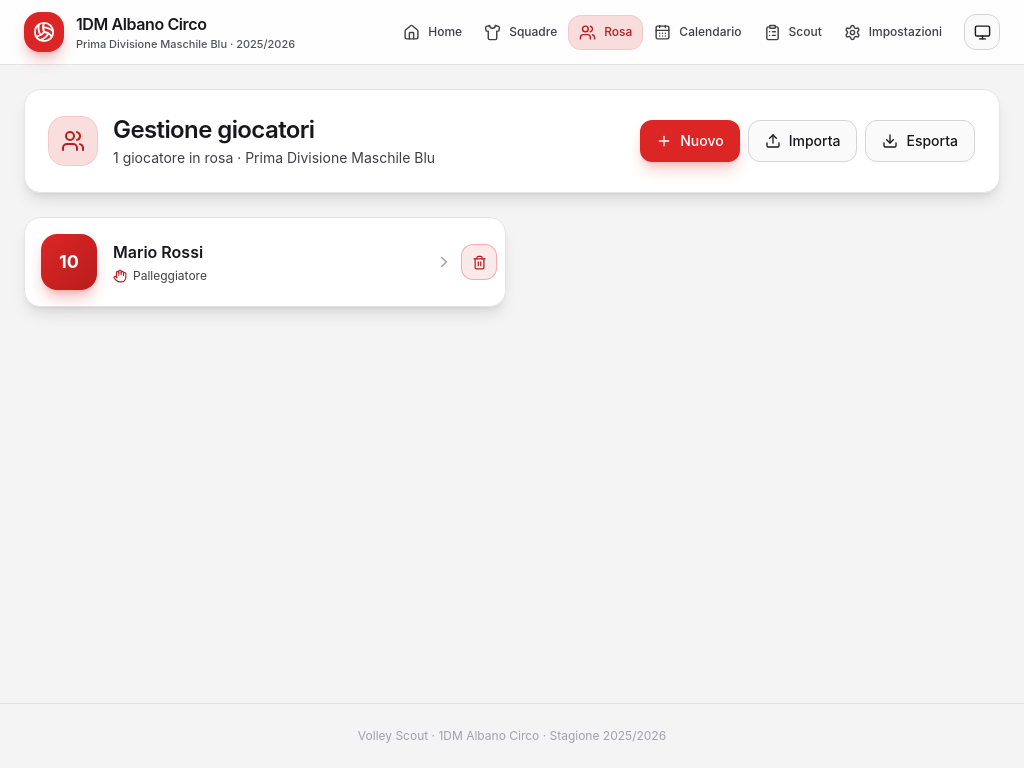
it: giocatori › mostra le statistiche aggregate di tutti gli scout nel profilo
This screenshot has width=1024, height=768.
Step 1. Click the link with aria-label "Apri il profilo di Mario Rossi" → (69, 262), box [41,226,453,298]
(page scrolled)
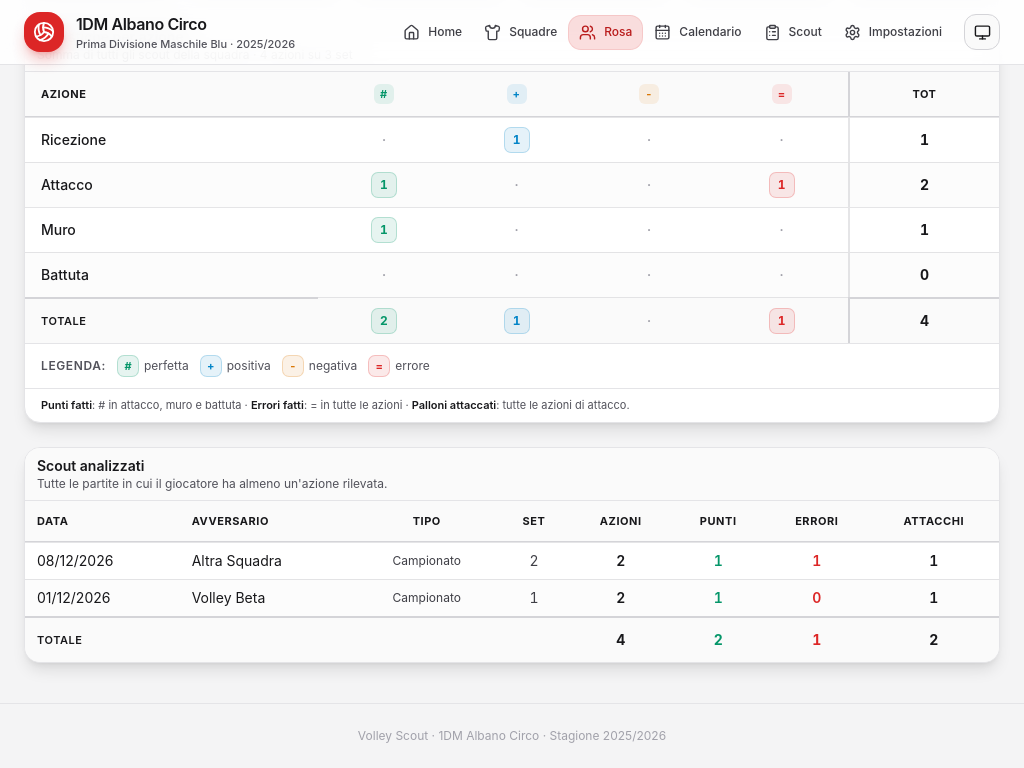
Expected: the column heading "Attacco" is shown, [25,162,318,207]
Expected: the text "Totale" below "Ricezione" is shown, [41,314,86,328]
Expected: the text "Altra Squadra" is shown, [180,542,356,579]
